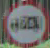Heavy Vehicles: (5, 1, 49, 45)
